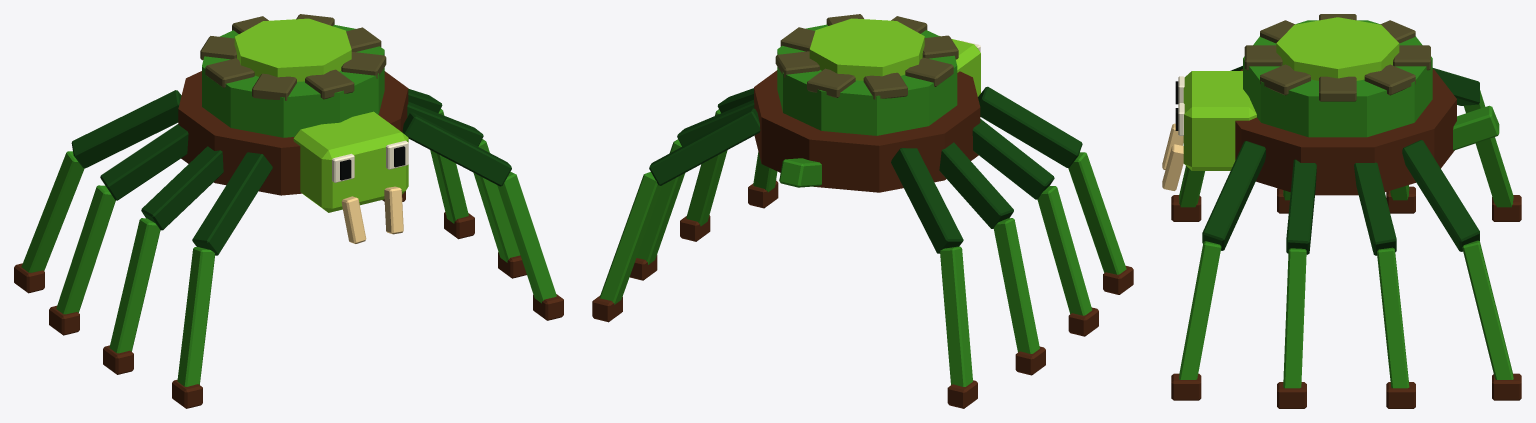
Rendered from Tartaragno.glb.
3 renders of one model, left to right at view 1: azimuth 30°, elevation 25°; view 2: azimuth 150°, elevation 25°; view 3: azimuth 270°, elevation 25°, orthographic. The views are drawn at different scales.
Visible parts, largest first — view 1: Tartaragno; view 2: Tartaragno; view 3: Tartaragno.
Boxes of the visible parts, x1,y1,x2,y2 form: Tartaragno: (14,14,563,408); Tartaragno: (592,14,1133,408); Tartaragno: (1162,14,1521,408).
Size of the model in its own units: 8.3 by 5 by 6.16.
Materials: 1 (1 with a texture image).
